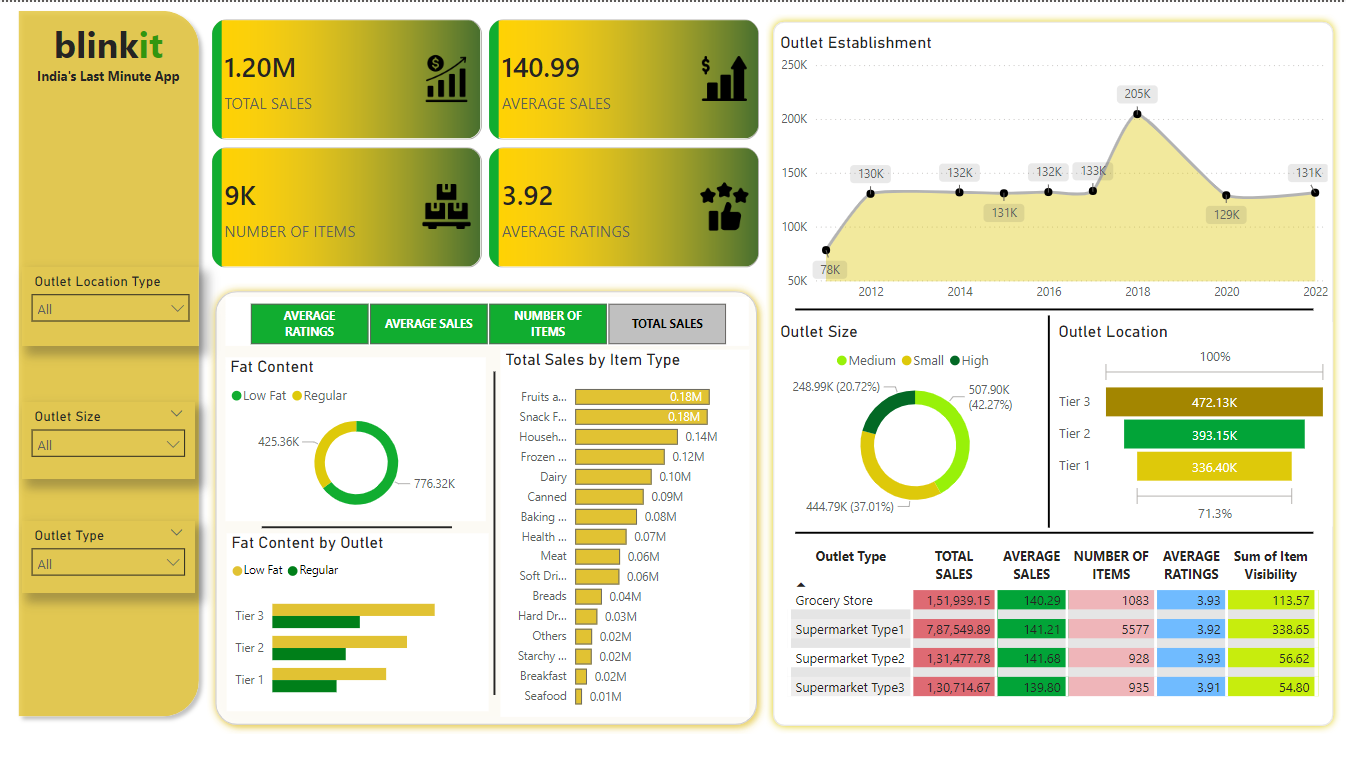

The dashboard page shown, as its layout file describes it:
{"tool":"powerbi","page":{"name":"Page 1","canvas":[1400,800],"ordinal":0},"visuals":[{"type":"shape","box":[10,0,205,750],"z":0},{"type":"textbox","box":[23.3,12.3,178.9,110.3],"z":1000},{"type":"cardVisual","fields":{"Data":["Sheet1.Total Sales","Sheet1.Average Sales","Sheet1.Number of Items","Sheet1.Average Ratings"]},"box":[214.4,12.3,579.5,269.5],"z":2000},{"type":"shape","box":[214.5,290.9,579.6,467.8],"z":3000},{"type":"donutChart","title":"Fat Content","fields":{"Y":["Sheet1.TOTAL SALES"],"Category":["Sheet1.Item Fat Content"]},"box":[233.9,368.5,270.4,170],"z":4000},{"type":"slicer","fields":{"Values":["Metrics.Metrics"]},"box":[233.9,305.8,543.1,51.3],"z":5000},{"type":"clusteredBarChart","title":"Fat Content by Outlet","fields":{"Y":["Sheet1.TOTAL SALES"],"Series":["Sheet1.Item Fat Content"],"Category":["Sheet1.Outlet Location Type"]},"box":[235,551,271.5,184.8],"z":6000},{"type":"shape","box":[271.5,538.5,197.4,12.5],"z":7000},{"type":"shape","box":[506.5,383.3,12.5,335.4],"z":8000},{"type":"clusteredBarChart","title":"Total Sales by Item Type","fields":{"Category":["Sheet1.Item Type"],"Y":["Sum(Sheet1.Sales)"]},"box":[519.1,360.5,257.8,381.1],"z":9000},{"type":"shape","box":[794,12.5,596.7,746.1],"z":10000},{"type":"lineChart","title":"Outlet Establishment","fields":{"Y":["Sheet1.TOTAL SALES"],"Category":["Sheet1.Outlet Establishment Year"]},"box":[804.3,31.9,577.3,286.4],"z":11000},{"type":"shape","box":[824.8,168.8,537.4,300],"z":12000},{"type":"donutChart","title":"Outlet Size","fields":{"Y":["Sheet1.TOTAL SALES"],"Category":["Sheet1.Outlet Size"]},"box":[804.3,332,288.6,206.5],"z":13000},{"type":"funnel","title":"Outlet Location","fields":{"Y":["Sheet1.TOTAL SALES"],"Category":["Sheet1.Outlet Location Type"]},"box":[1093,332,288.6,212.2],"z":14000},{"type":"shape","box":[937.8,325.1,300,220.2],"z":15000},{"type":"shape","box":[824.8,400.4,537.4,300],"z":16000},{"type":"tableEx","fields":{"Values":["Sheet1.Outlet Type","Sheet1.TOTAL SALES","Sheet1.AVERAGE SALES","Sheet1.NUMBER OF ITEMS","Sheet1.AVERAGE RATINGS","Sum(Sheet1.Item Visibility)"]},"box":[810,559,567,167.7],"z":17000},{"type":"slicer","fields":{"Values":["Sheet1.Outlet Location Type"]},"box":[22.8,274.9,183.7,82.1],"z":17001},{"type":"slicer","fields":{"Values":["Sheet1.Outlet Size"]},"box":[22.8,415.3,179.1,78.7],"z":17002},{"type":"slicer","fields":{"Values":["Sheet1.Outlet Type"]},"box":[22.8,538.5,179.1,74.2],"z":17003}]}

Visuals, with their boxes in screenshot pixels (x1, y1, x2, y2), scaled from the page's 1400x800 canvas onto the 1346x774 screenshot:
shape: detection(10, 0, 207, 726)
textbox: detection(22, 12, 194, 119)
cardVisual - Sheet1.Total Sales x Sheet1.Average Sales: detection(206, 12, 763, 273)
shape: detection(206, 281, 763, 734)
"Fat Content" donutChart: detection(225, 357, 485, 521)
slicer - Metrics.Metrics: detection(225, 296, 747, 345)
"Fat Content by Outlet" clusteredBarChart: detection(226, 533, 487, 712)
shape: detection(261, 521, 451, 533)
shape: detection(487, 371, 499, 695)
"Total Sales by Item Type" clusteredBarChart: detection(499, 349, 747, 717)
shape: detection(763, 12, 1337, 734)
"Outlet Establishment" lineChart: detection(773, 31, 1328, 308)
shape: detection(793, 163, 1310, 454)
"Outlet Size" donutChart: detection(773, 321, 1051, 521)
"Outlet Location" funnel: detection(1051, 321, 1328, 527)
shape: detection(902, 315, 1190, 528)
shape: detection(793, 387, 1310, 678)
tableEx - Sheet1.Outlet Type x Sheet1.TOTAL SALES: detection(779, 541, 1324, 703)
slicer - Sheet1.Outlet Location Type: detection(22, 266, 199, 345)
slicer - Sheet1.Outlet Size: detection(22, 402, 194, 478)
slicer - Sheet1.Outlet Type: detection(22, 521, 194, 593)
